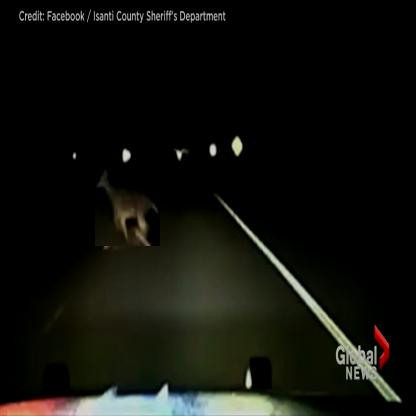Deer: (95, 165, 160, 246)
